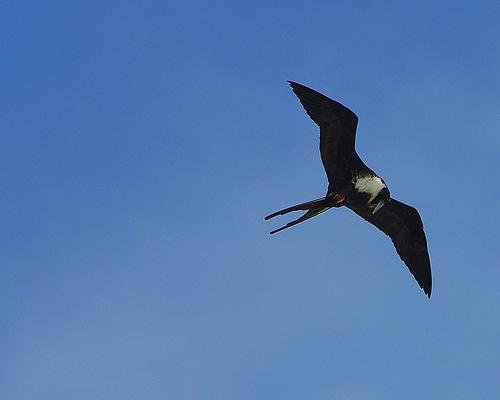bird: (262, 76, 432, 302)
